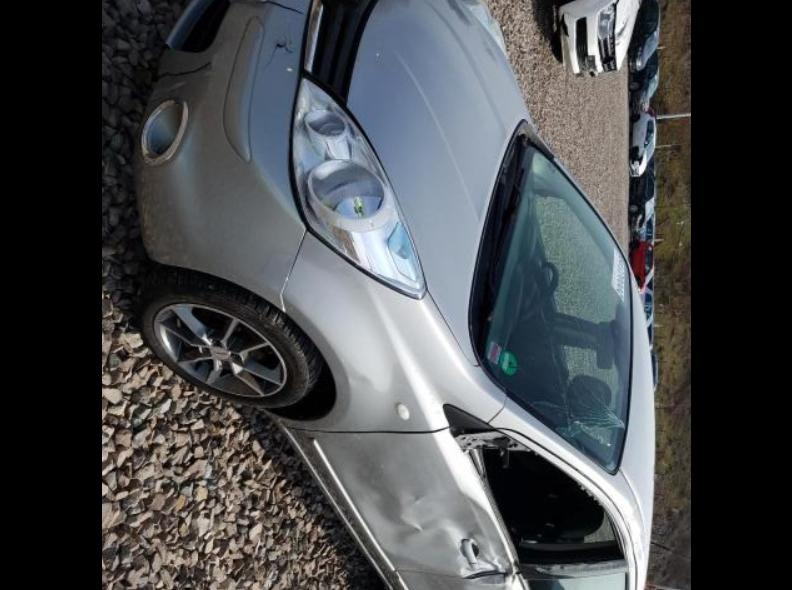Broken part: (133, 0, 311, 314), (452, 566, 519, 584)
Cracked: (465, 129, 629, 477)
Dent: (327, 455, 516, 579), (515, 560, 626, 576), (619, 500, 646, 561), (458, 573, 518, 590)
Missing part: (477, 448, 622, 564), (453, 433, 541, 496)
Scratch: (155, 55, 210, 88), (262, 30, 293, 76), (609, 514, 629, 566), (259, 0, 304, 12)
